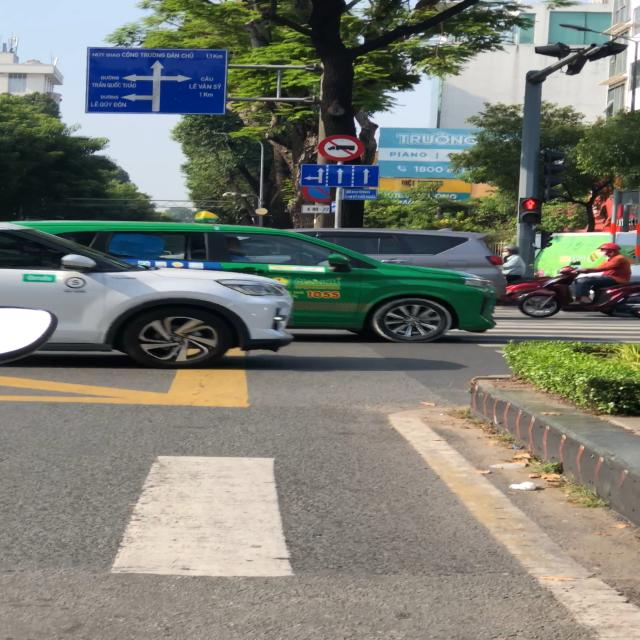Bien bao cam xe so-mi ro-mooc: (316, 134, 369, 162)
